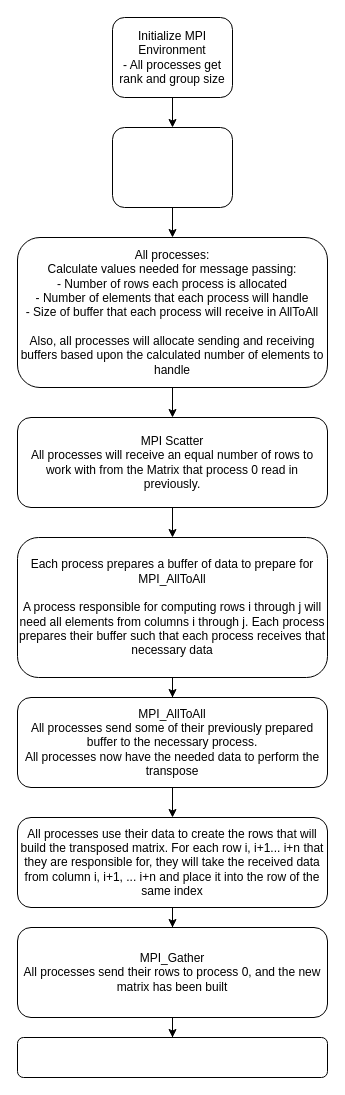
Image size: 345x1095. Some labels were removed from this diagram. Each missing label, with the box of its shape:
Process 0 displays the transposed matrix: (16, 1036, 328, 1078)
Rank 0 only: Open file, read in matrix, display the matrix.: (112, 126, 232, 208)
